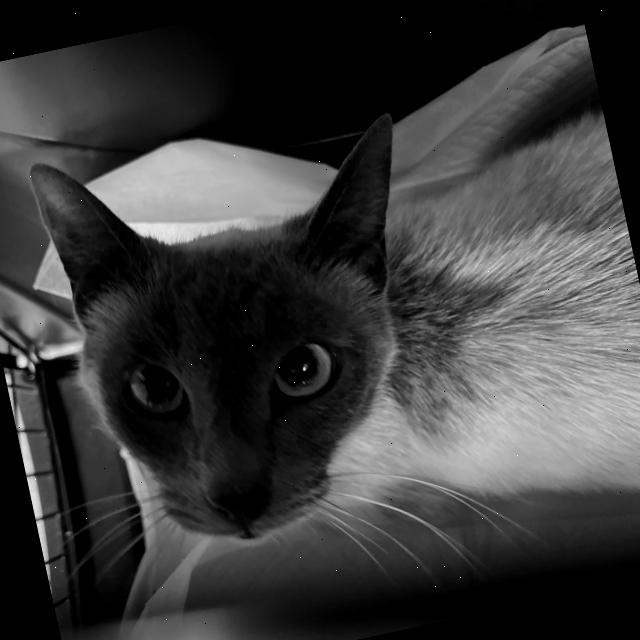siamese_cat: (8, 76, 496, 604)
